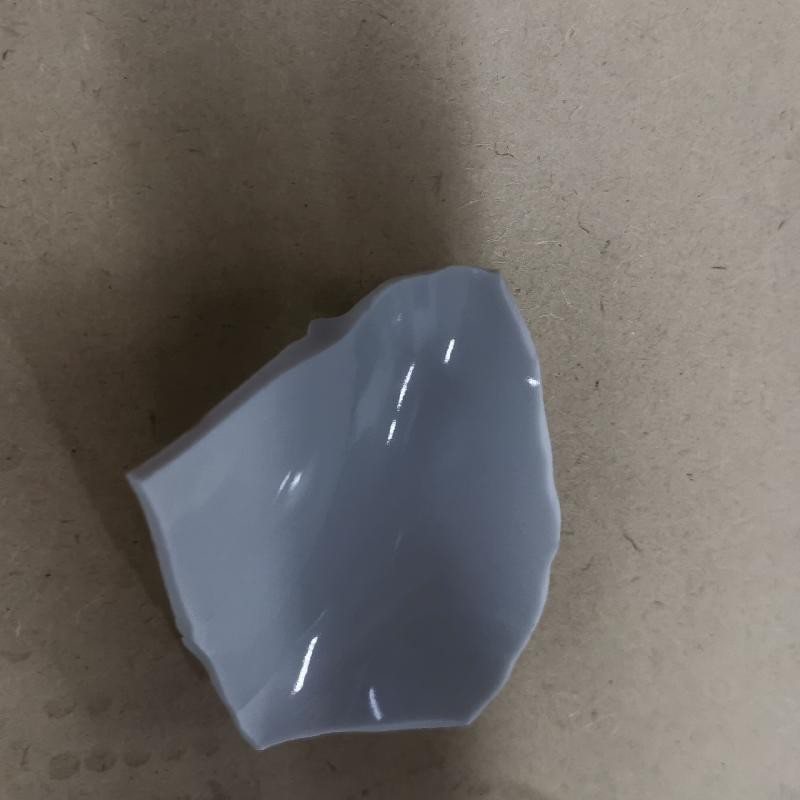ceram: (107, 259, 565, 749)
